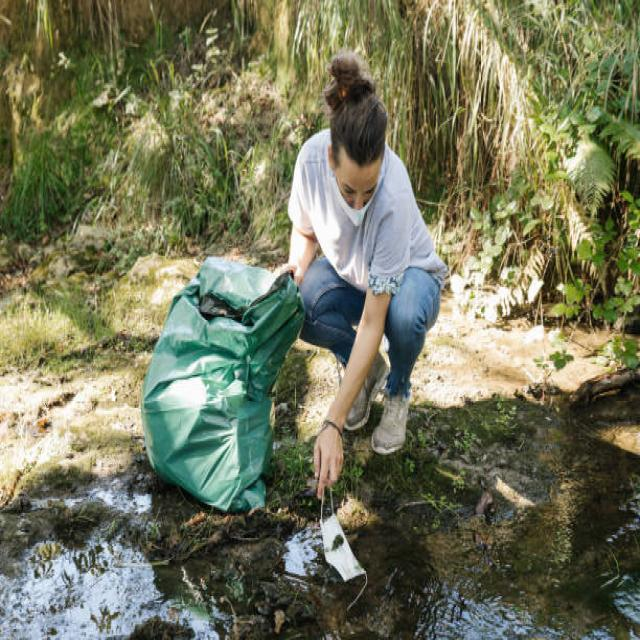trash: (135, 258, 305, 528)
